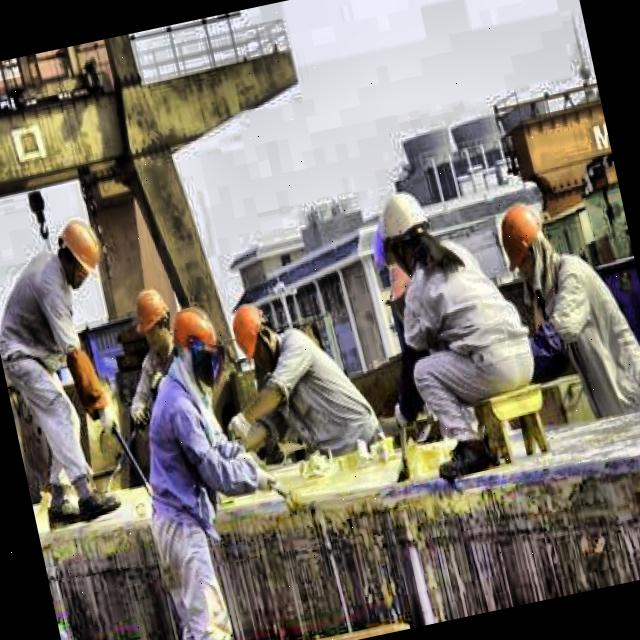helmet: (372, 182, 442, 275), (486, 195, 550, 281), (47, 207, 109, 291), (126, 280, 184, 364), (167, 300, 225, 381), (223, 300, 276, 372)
